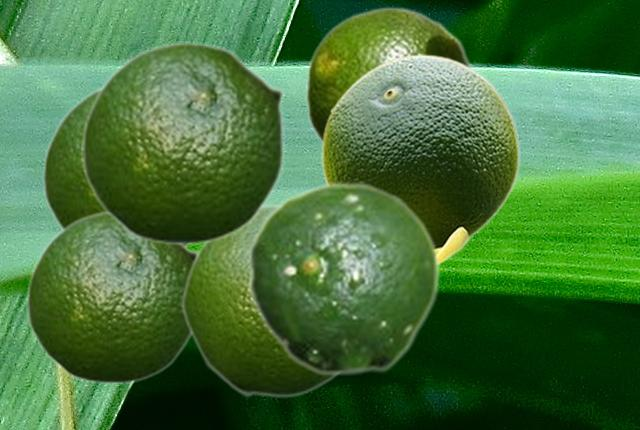calamansi: (81, 41, 285, 245), (321, 54, 519, 264), (247, 181, 440, 376), (180, 203, 340, 397), (26, 210, 197, 384), (42, 83, 194, 247), (304, 6, 475, 146)
